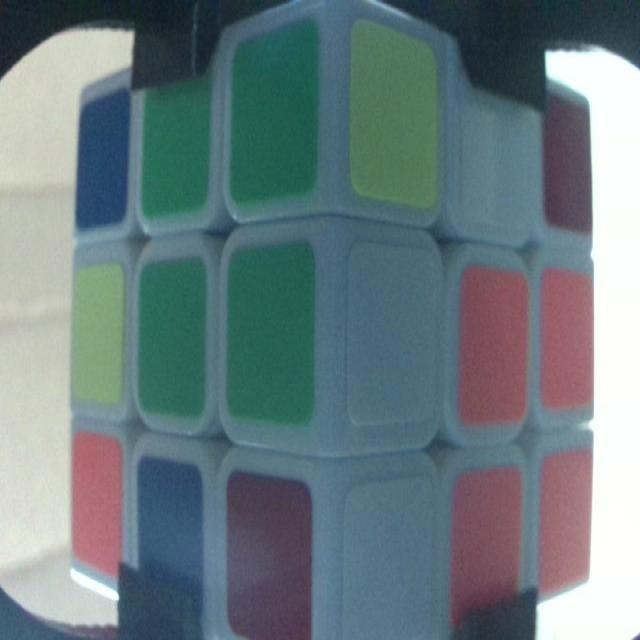b: (140, 470, 198, 594), (84, 108, 124, 207)
g: (233, 257, 310, 404), (234, 50, 314, 180), (141, 270, 203, 409), (144, 92, 205, 203)
o: (462, 274, 526, 414), (456, 477, 517, 594), (544, 270, 592, 402), (74, 437, 120, 569), (542, 462, 590, 588)
r: (227, 484, 310, 637), (545, 99, 591, 221)
w: (352, 253, 432, 414), (350, 495, 432, 629), (467, 90, 529, 229)
y: (357, 45, 431, 187), (77, 274, 118, 395)
